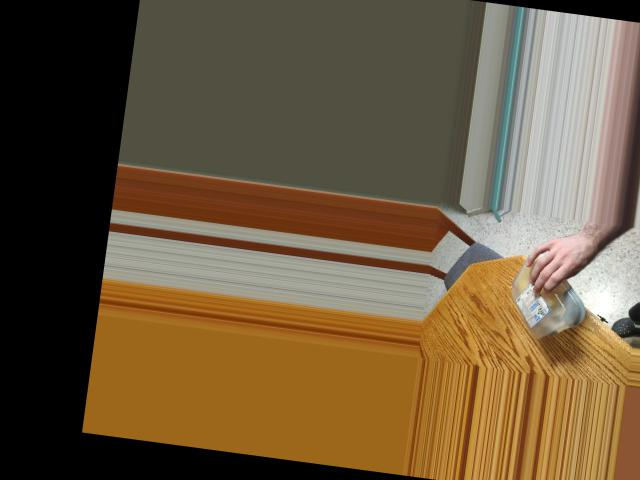cheese: (505, 242, 590, 343)
